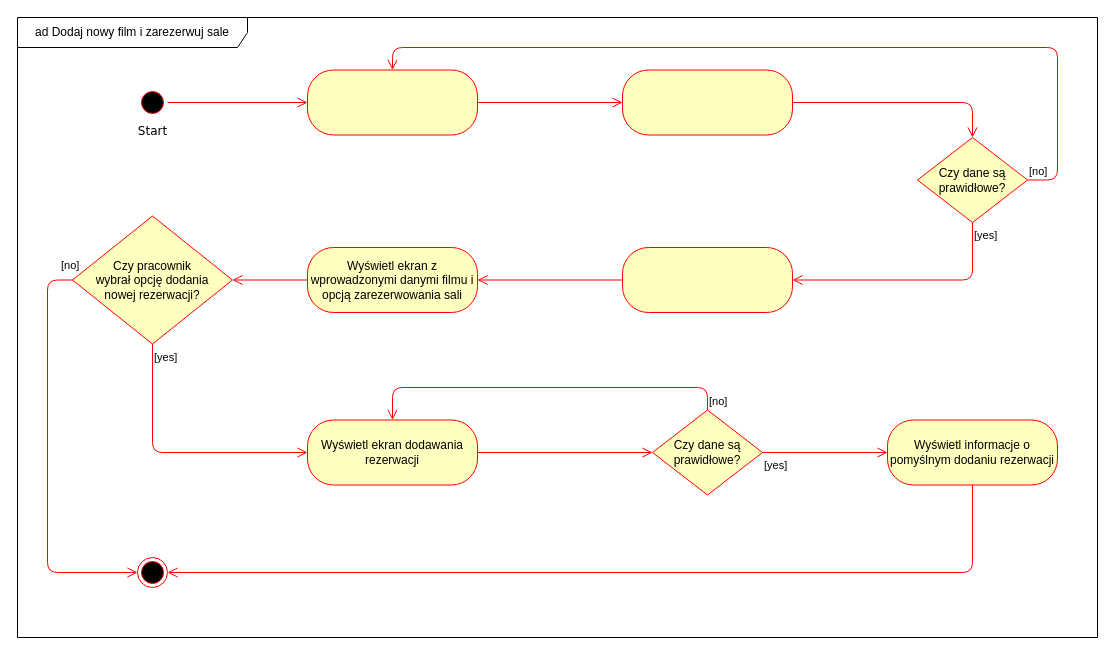
Image size: 1115x655. Some labels were removed from this diagram. The shapes that lost their labels are listed below. From the top down, each one's centre as x and y in pixels, then its label:
At pixel 392 102: "Wyświetl formularz dodawania nowego filmu".
At pixel 707 102: "Pracownik wprowadza dane do formularza dodawania nowego filmu".
At pixel 707 279: "Wyświetl informacje o pomyślnym dodaniu filmu".
At pixel 152 572: "Koniec".
